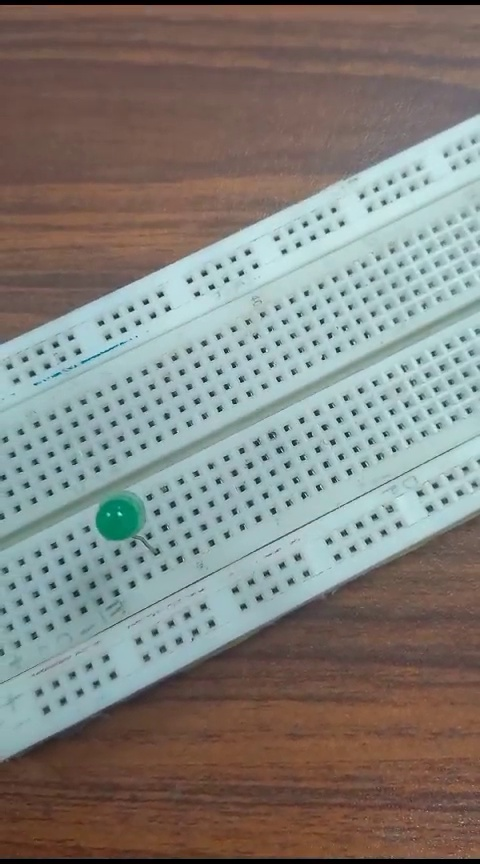LED: (94, 479, 152, 549)
